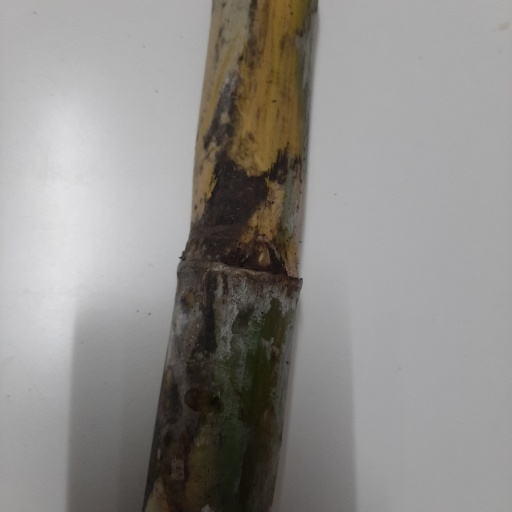Bud: (251, 242, 272, 271)
